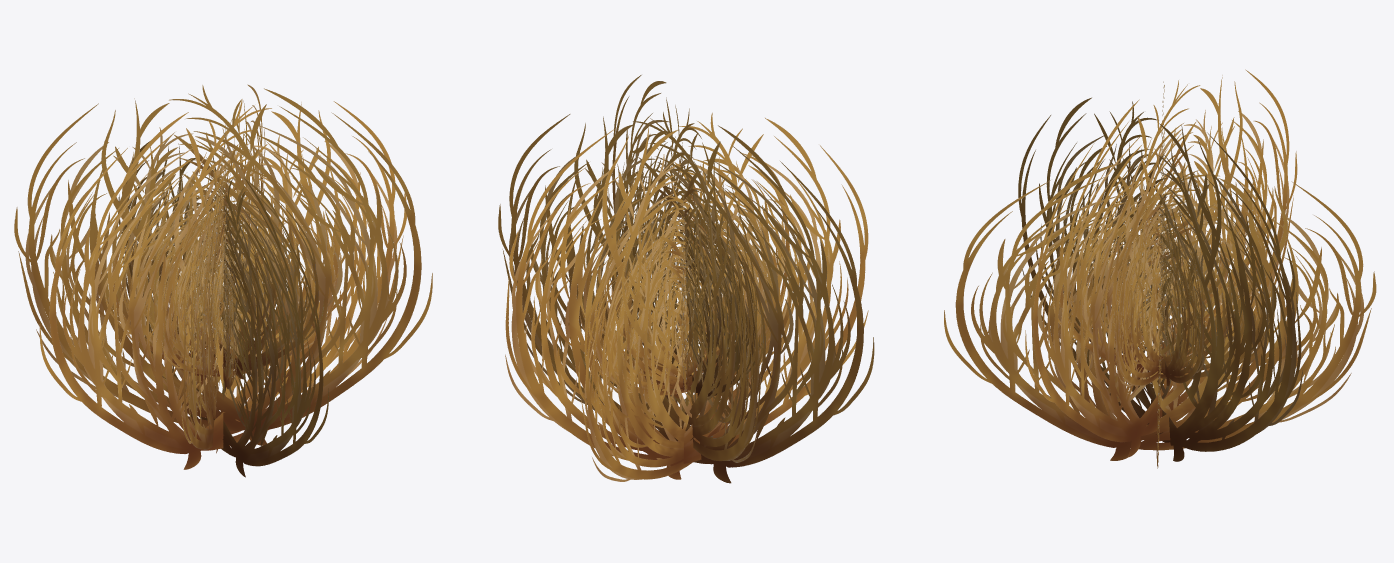
File: e_tumbleweed.fbx
3 views of the same model, side by side, from view 1: azimuth 30°, elevation 25°; view 2: azimuth 150°, elevation 25°; view 3: azimuth 270°, elevation 25° (orthographic).
Visible parts, largest first — view 1: Plane.002; view 2: Plane.002; view 3: Plane.002.
Boxes of the visible parts, left/top/right/bottom form: Plane.002: left=14, top=84, right=432, bottom=477; Plane.002: left=498, top=75, right=874, bottom=483; Plane.002: left=944, top=69, right=1376, bottom=468.
Bounding box in the file's own units: 112 × 122 × 112.
1 material, 1 textured.
